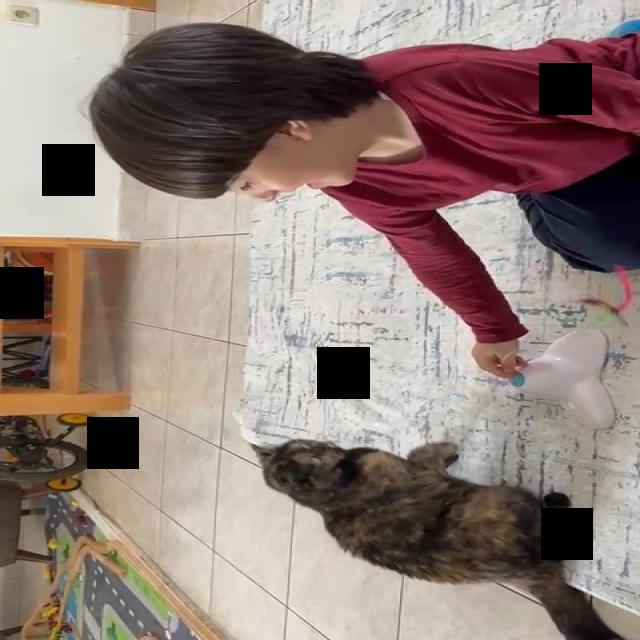authorized: (249, 438, 628, 639)
